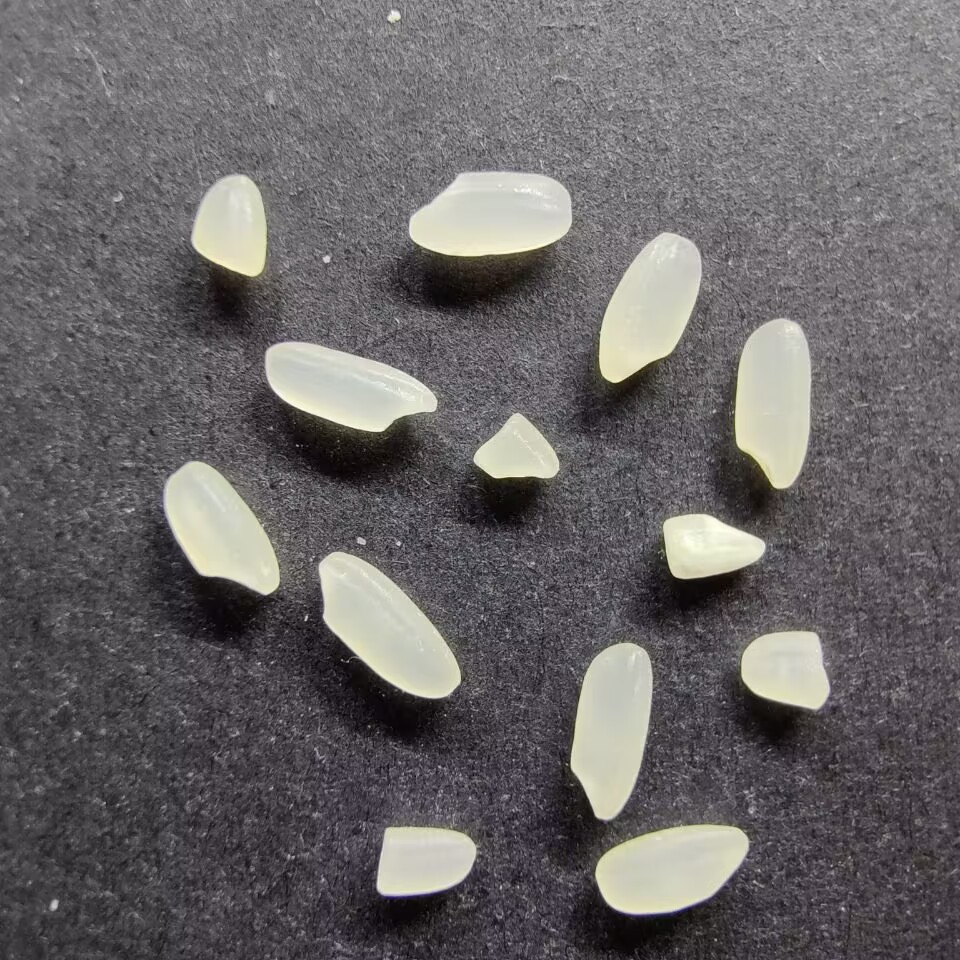broken: (190, 173, 269, 278), (372, 824, 481, 897), (739, 629, 831, 712), (661, 512, 766, 580), (472, 410, 564, 481)
rice: (316, 550, 463, 699), (160, 459, 281, 597), (262, 339, 439, 433), (597, 232, 704, 384), (569, 643, 655, 820), (407, 169, 573, 258), (594, 824, 750, 915), (733, 318, 813, 490)
